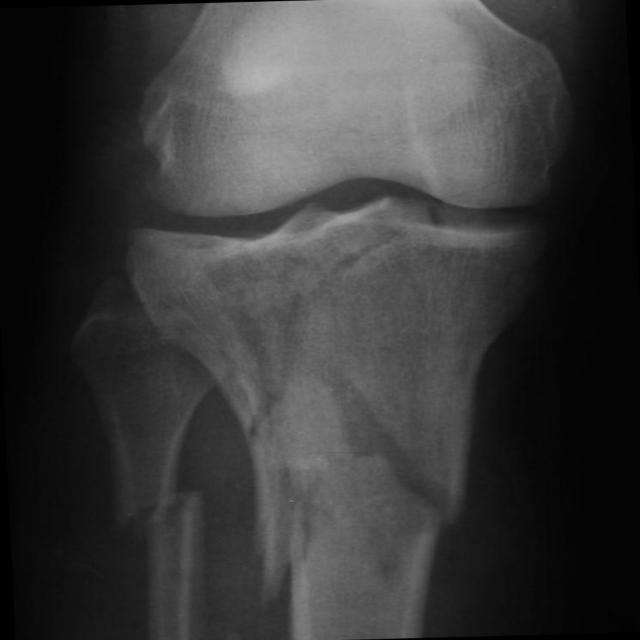Oblique Displaced: (241, 351, 476, 569)
Transverse Displaced: (90, 476, 218, 555)
